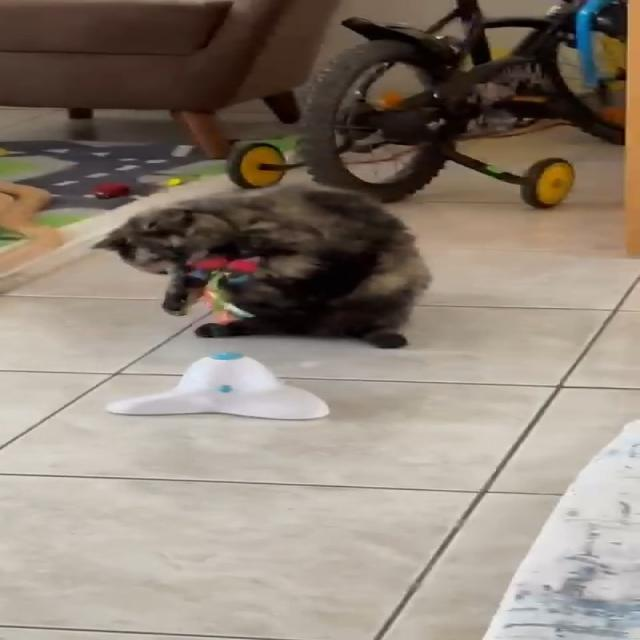authorized: (91, 182, 432, 349)
